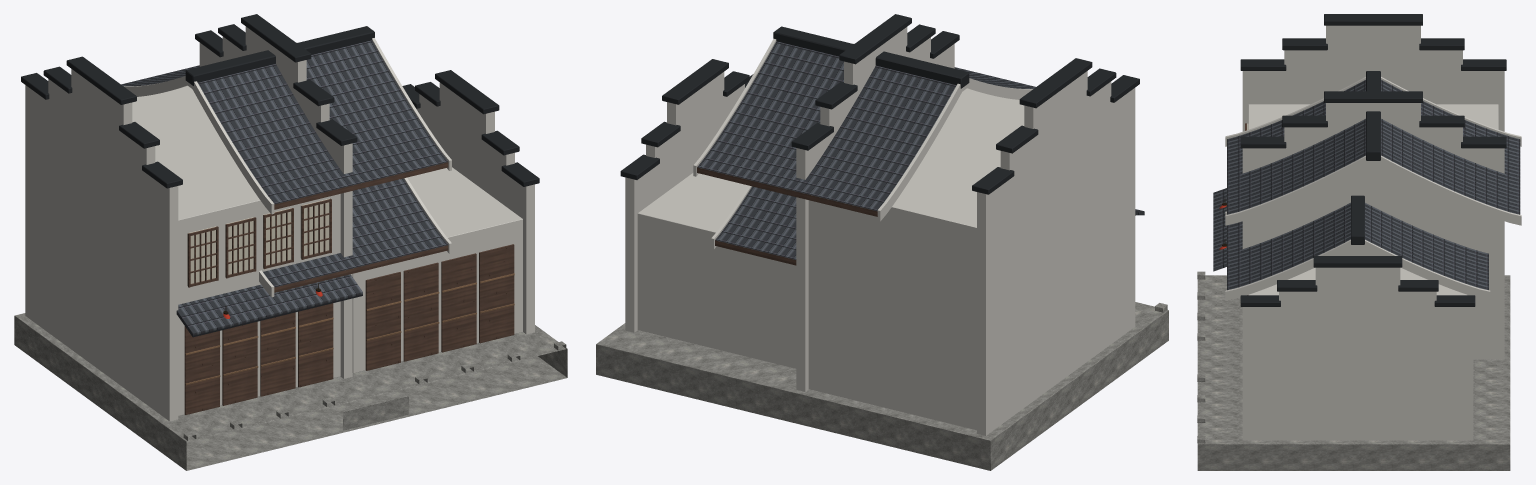
File: build-huizhou.glb
The picture shows the model from 3 angles, left to right: view 1: azimuth 30°, elevation 25°; view 2: azimuth 150°, elevation 25°; view 3: azimuth 270°, elevation 25°; orthographic projection. The views are drawn at different scales.
Visible parts, largest first — view 1: build-huizhou-Water_Town_House; view 2: build-huizhou-Water_Town_House; view 3: build-huizhou-Water_Town_House.
Boxes of the visible parts, x1,y1,x2,y2 form: build-huizhou-Water_Town_House: [14, 14, 567, 470]; build-huizhou-Water_Town_House: [596, 14, 1168, 470]; build-huizhou-Water_Town_House: [1197, 14, 1521, 470].
Bounding box in the file's own units: 5.2 × 4.16 × 4.22.
Materials: 5 (4 with a texture image).
